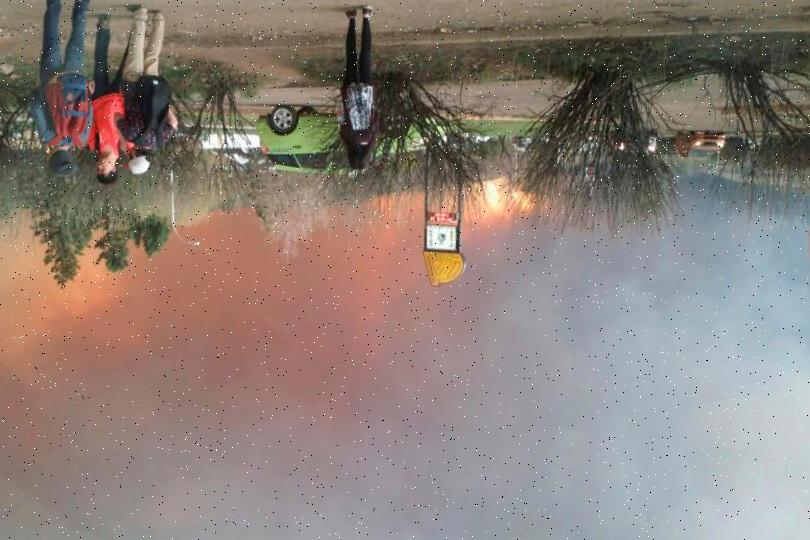fire: (463, 150, 542, 224)
